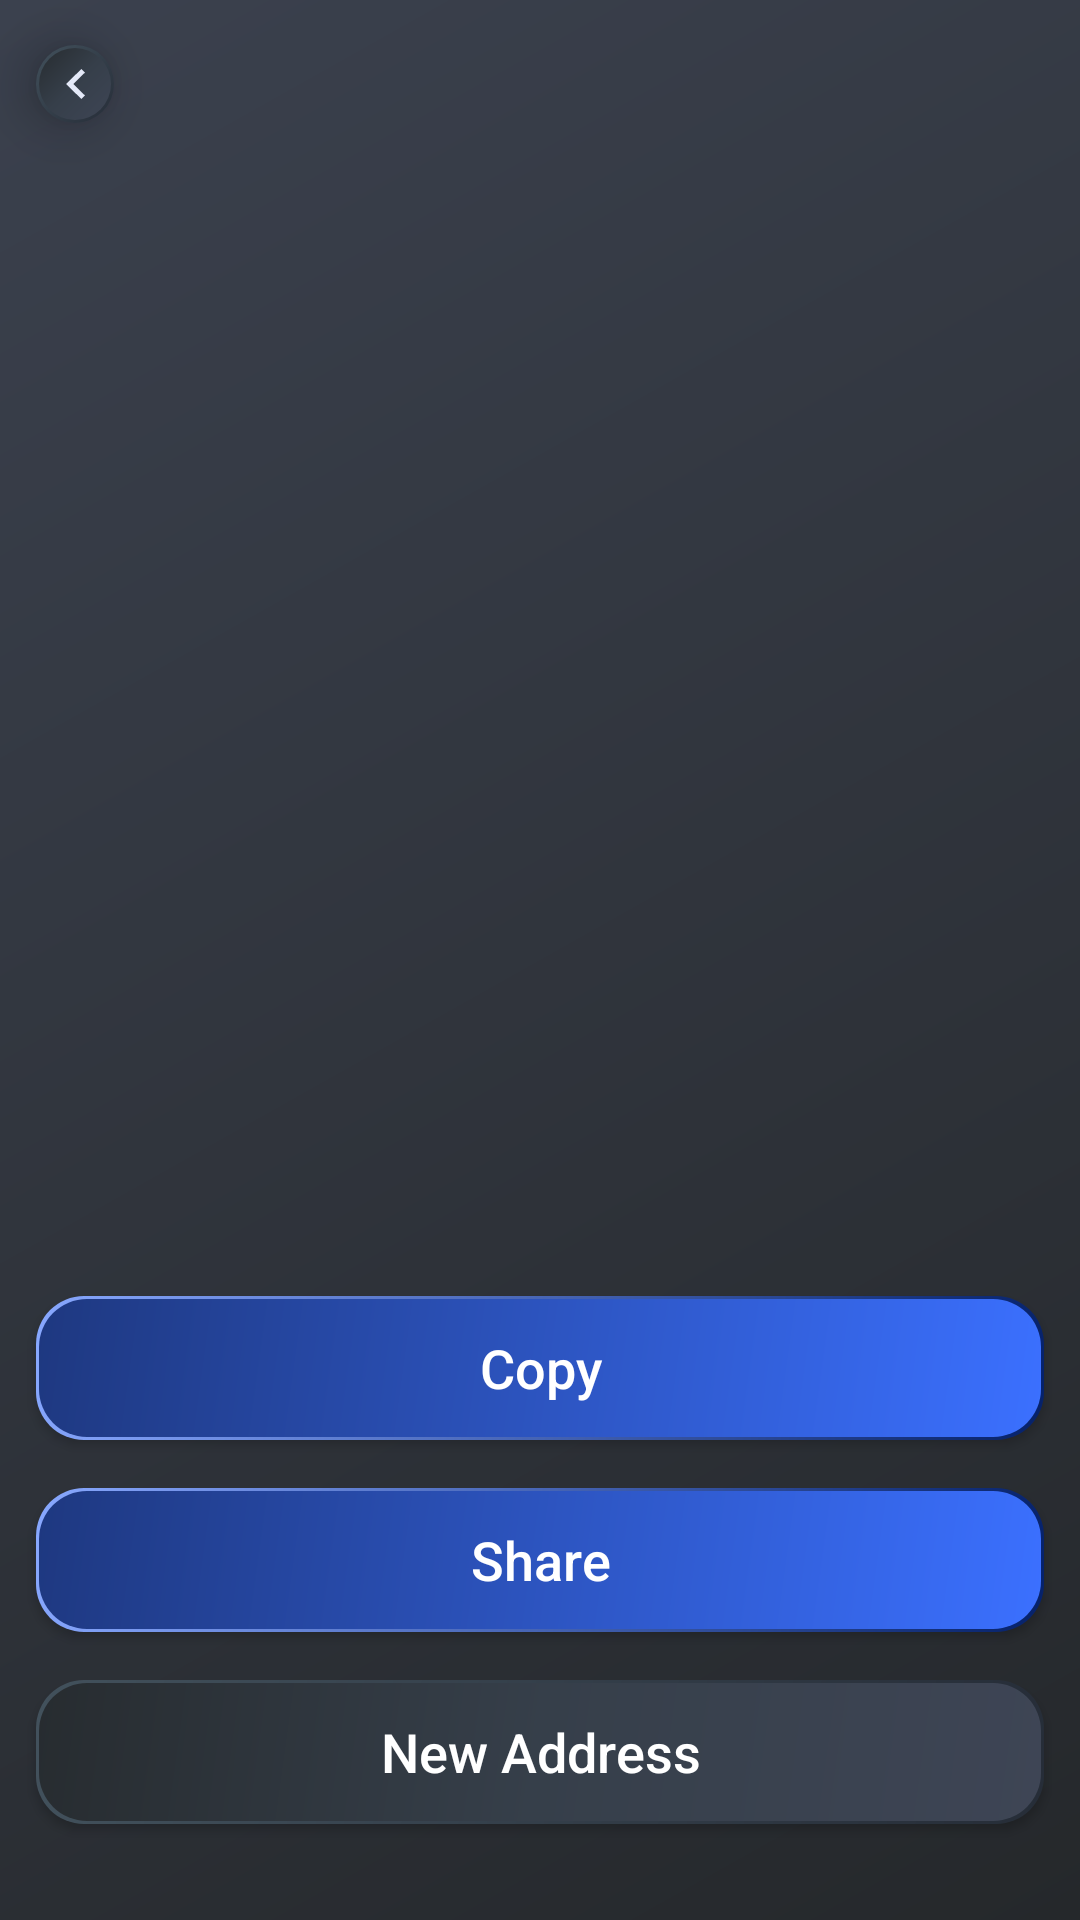

Where icons sit on this 1080×1920 app screen, as (x1, y1, x2, y2):
back: (66, 69, 85, 99)
